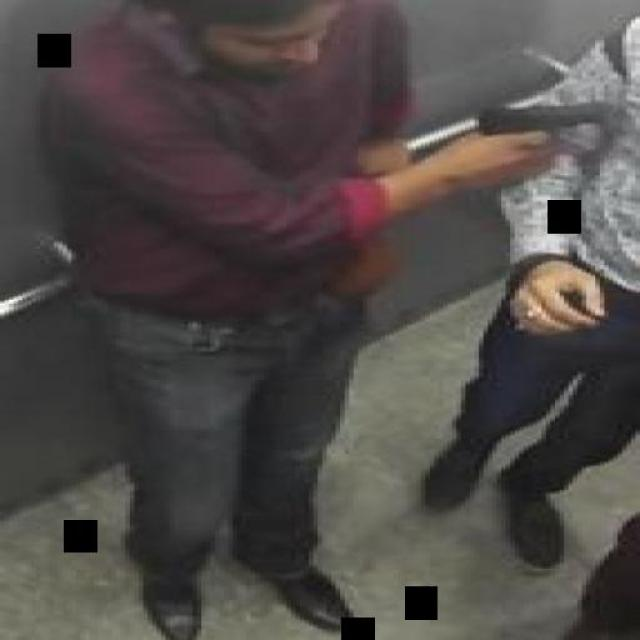gun: (466, 98, 609, 174)
